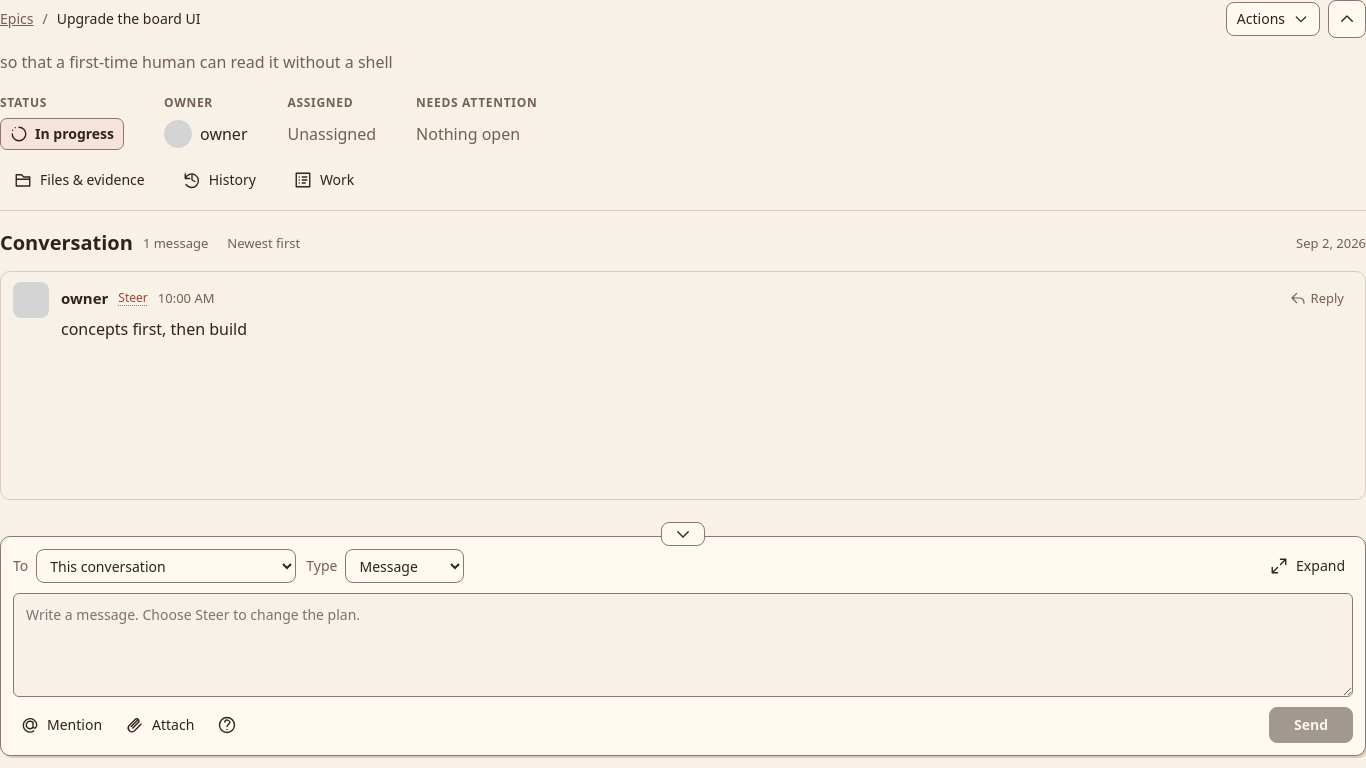
Test: EpicPage › Work shows the latest steer text when a steer is present
Step 1. Click the button with test id "work-work" → (324, 180), box [280,160,368,200]
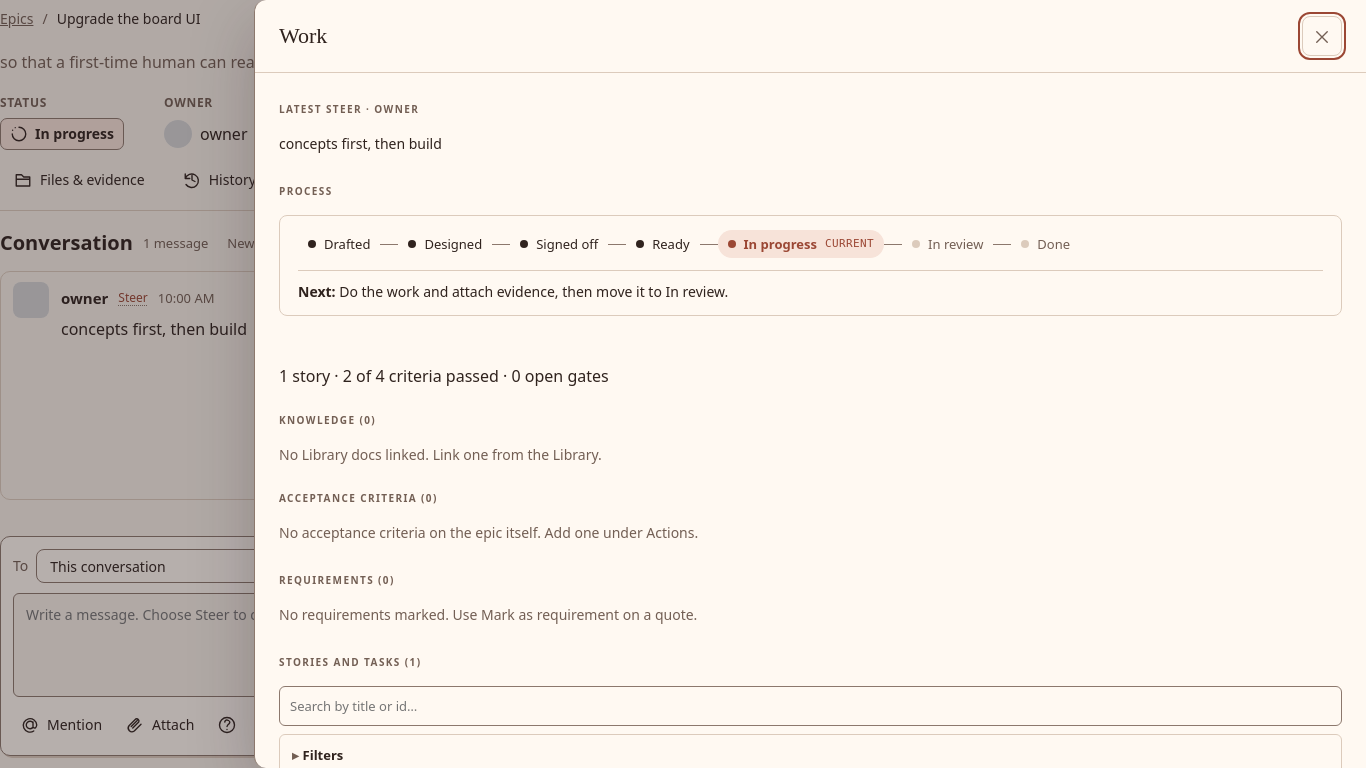
Expected: the element with test id "directive" shows "concepts first, then build", [279,134,442,153]
